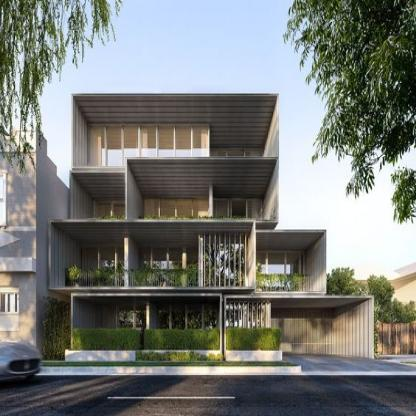Balcony: (66, 270, 199, 288), (256, 276, 313, 292)
Building Outline: (49, 93, 374, 362)
Facade: (49, 93, 375, 362)
Floor Slab: (256, 292, 324, 295)
Glass Wall: (89, 123, 209, 168), (158, 303, 220, 355), (138, 247, 198, 287), (203, 236, 248, 288), (253, 252, 306, 293), (144, 198, 209, 231), (226, 303, 265, 356), (80, 247, 124, 287), (117, 303, 150, 355), (211, 150, 264, 182), (212, 201, 262, 233), (94, 198, 127, 231)
Window: (73, 96, 277, 168), (50, 221, 254, 288), (127, 160, 276, 222), (226, 298, 372, 357), (73, 297, 220, 355), (256, 232, 324, 291), (71, 173, 128, 221)
